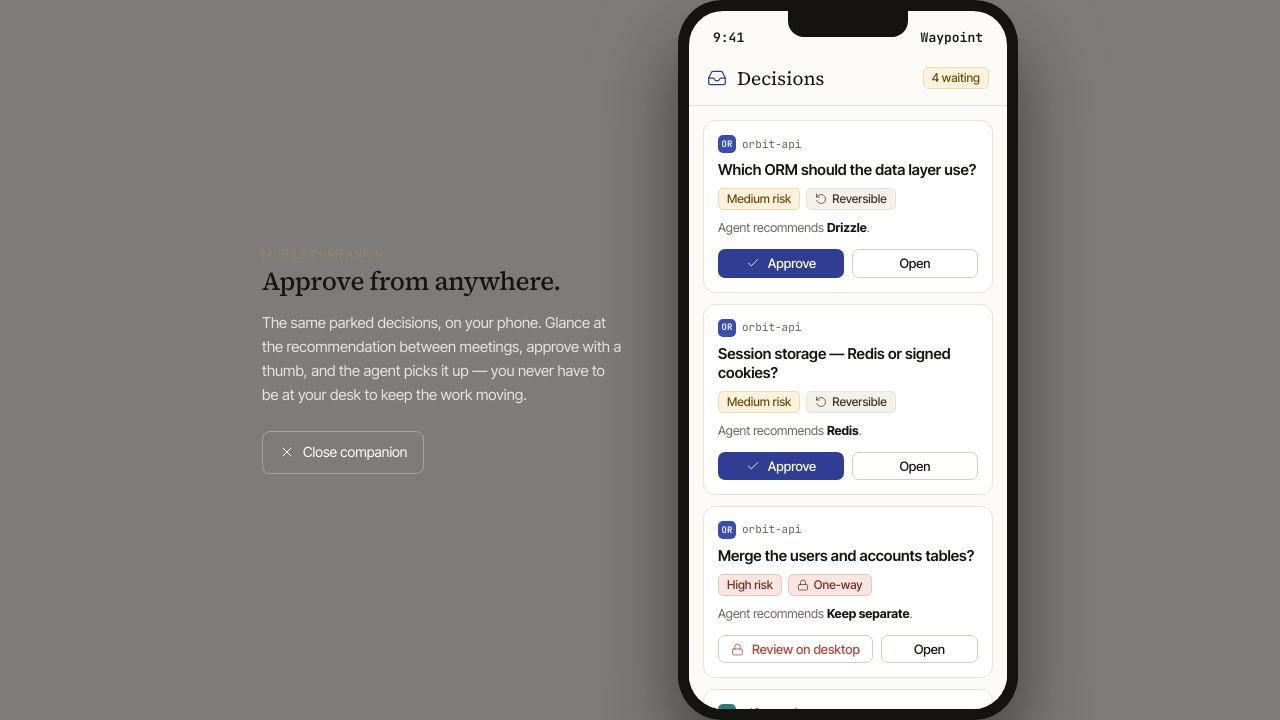
Test: MobileCompanion › approves a reversible decision locally, flipping the card
Click the button "Approve" below "Drizzle". click: coordinates (781, 263)
box: x1=718 y1=249 x2=844 y2=278
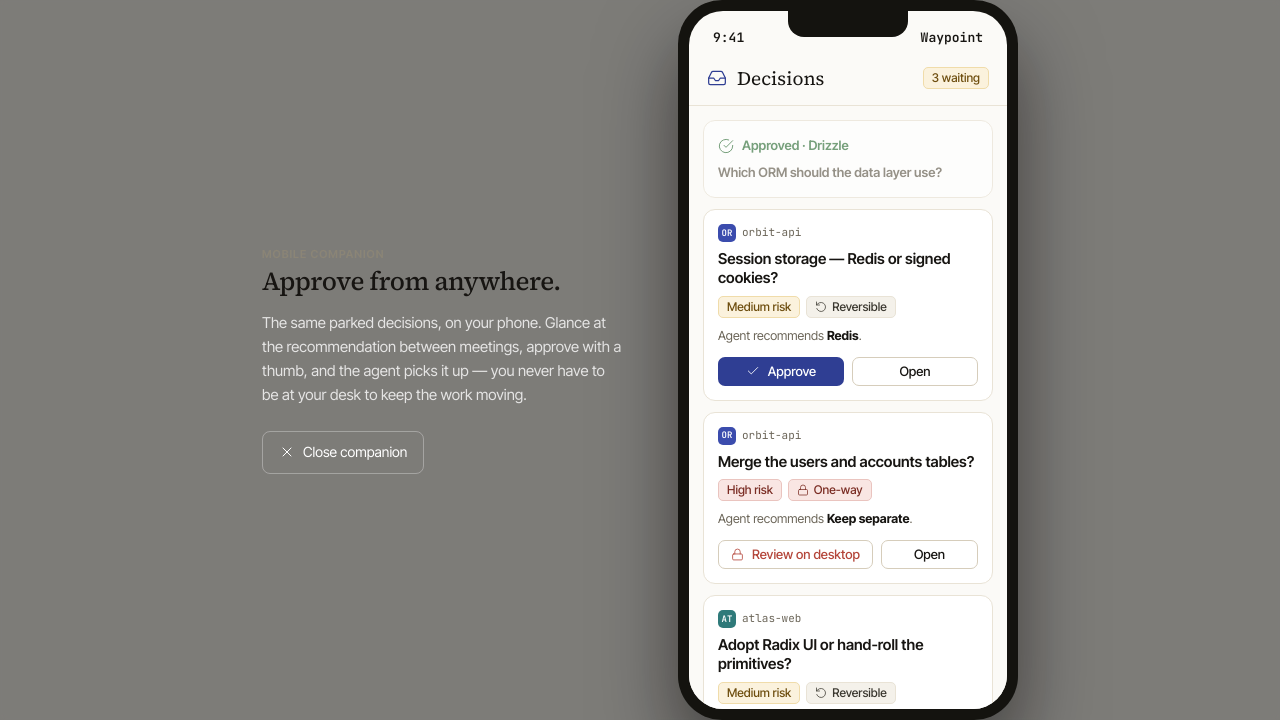
Expected: the text "Approved · Drizzle" is shown, x1=718 y1=137 x2=849 y2=154
